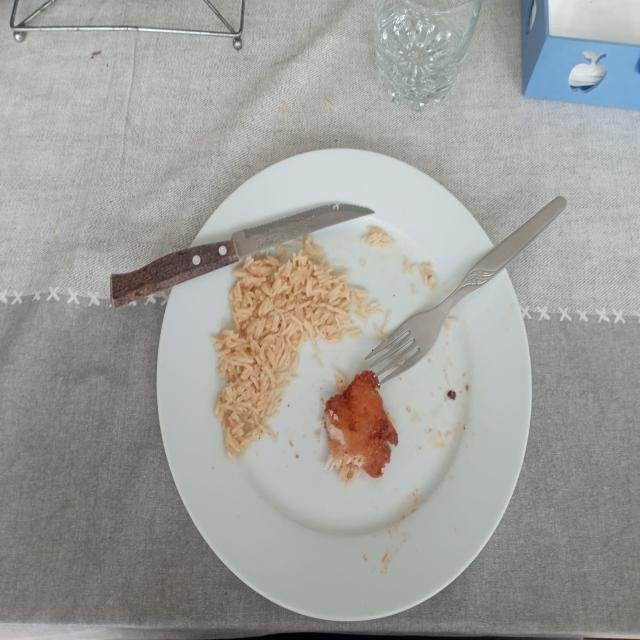breaded: (323, 371, 398, 481)
cup: (374, 0, 481, 112)
fork: (365, 196, 567, 384)
knife: (111, 203, 374, 306)
plate: (111, 149, 531, 621)
rice: (211, 239, 379, 459), (403, 259, 438, 291), (362, 225, 395, 247)
